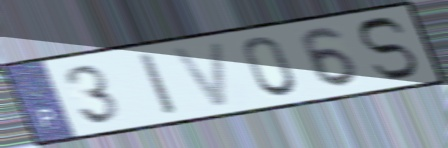0: (242, 35, 299, 99)
3: (62, 63, 123, 125)
6: (299, 25, 363, 90)
I: (135, 49, 183, 118)
S: (355, 15, 421, 82)
V: (167, 37, 233, 112)
